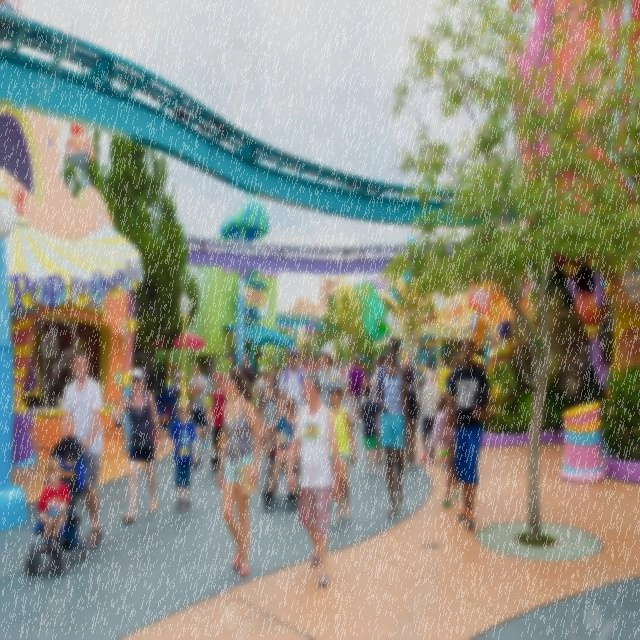pessoa: (286, 368, 341, 588), (440, 333, 492, 532), (215, 364, 263, 578), (108, 364, 166, 526), (60, 350, 104, 548), (374, 334, 412, 520), (158, 399, 200, 513), (262, 393, 304, 500), (327, 380, 357, 524), (34, 454, 72, 554), (436, 367, 460, 508), (372, 354, 398, 466), (418, 366, 442, 466), (278, 347, 308, 418), (359, 384, 382, 476), (210, 372, 230, 473), (187, 362, 209, 452), (259, 371, 280, 464), (404, 364, 421, 470), (315, 344, 342, 410), (412, 352, 460, 385), (346, 352, 366, 428), (238, 351, 257, 398), (254, 364, 268, 424), (171, 362, 182, 408), (367, 352, 382, 383), (204, 386, 212, 434), (342, 359, 350, 404), (300, 354, 320, 372), (272, 363, 282, 398), (410, 360, 420, 386), (333, 353, 344, 376), (348, 358, 352, 369), (284, 363, 290, 368), (279, 366, 283, 371)
